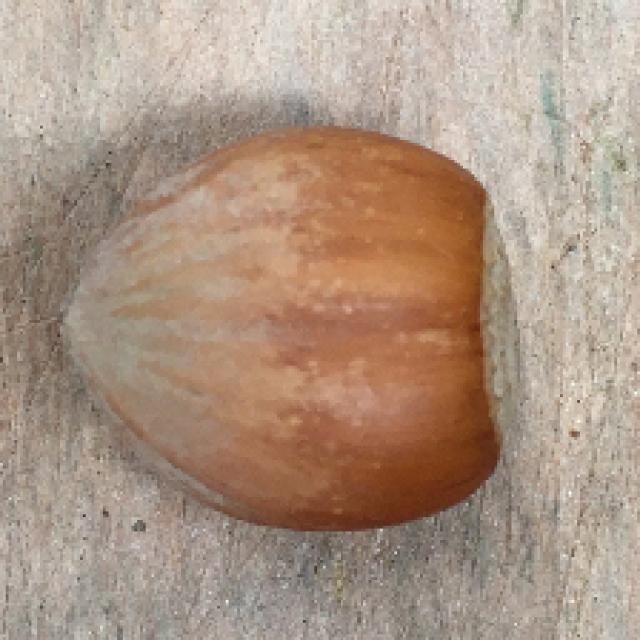QualityHazelnut: (56, 126, 530, 530)
